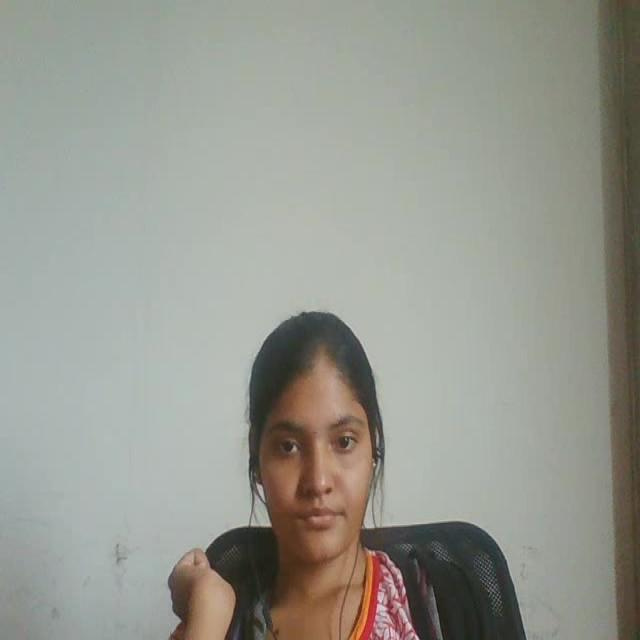Engaged: (212, 292, 402, 592)
